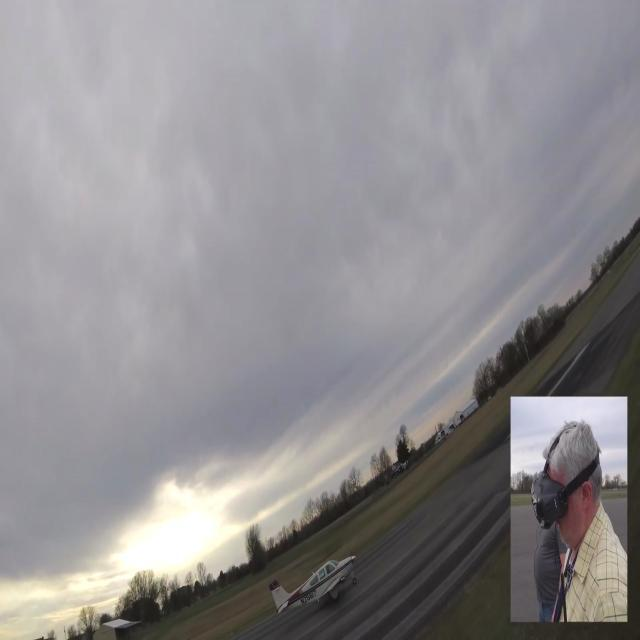iha: (298, 545, 328, 608)
